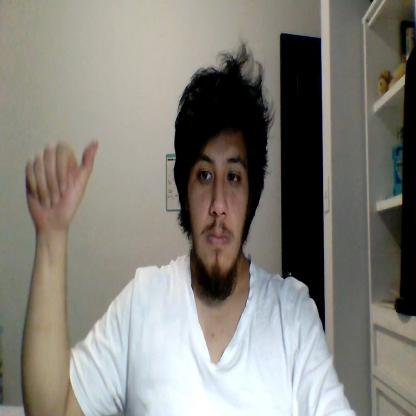A: (25, 139, 99, 228)
